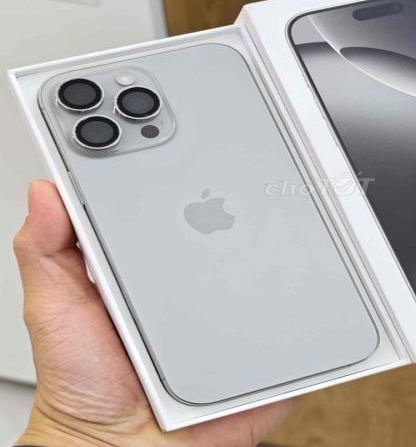scratch: (41, 85, 64, 112), (105, 98, 126, 123), (78, 108, 90, 118), (70, 130, 76, 143)
